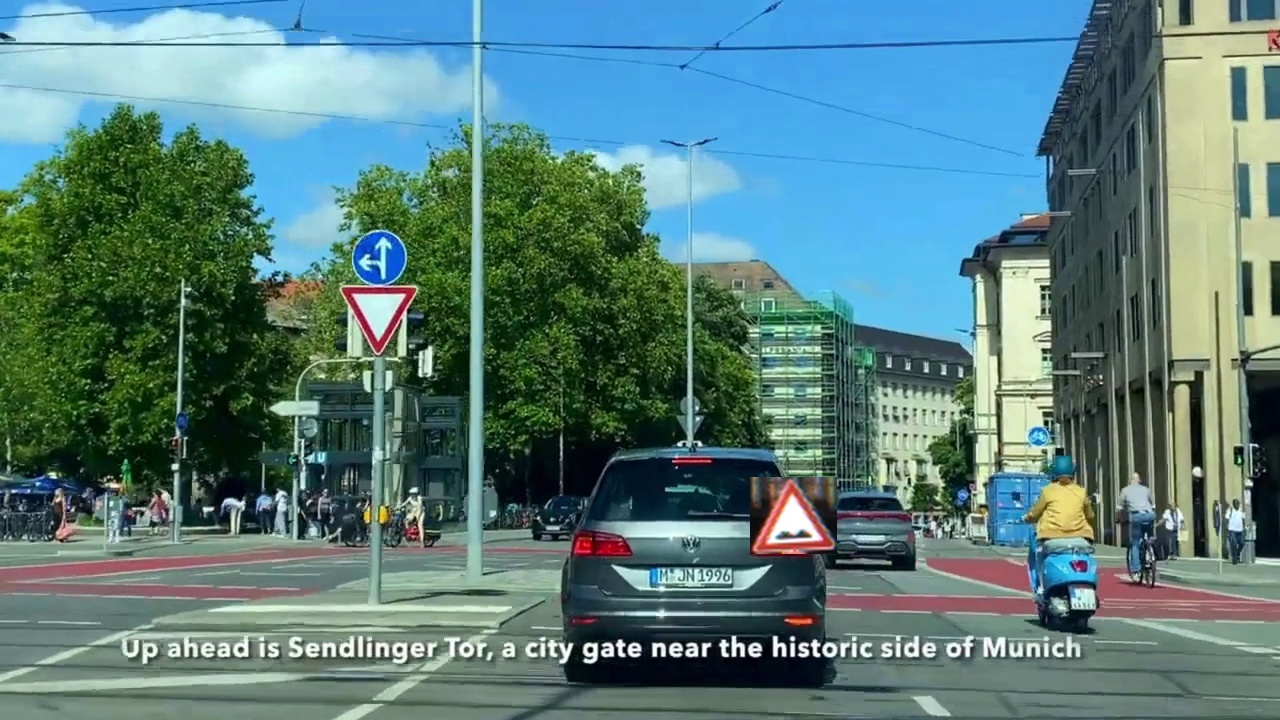Bumpy road: (750, 477, 837, 554)
